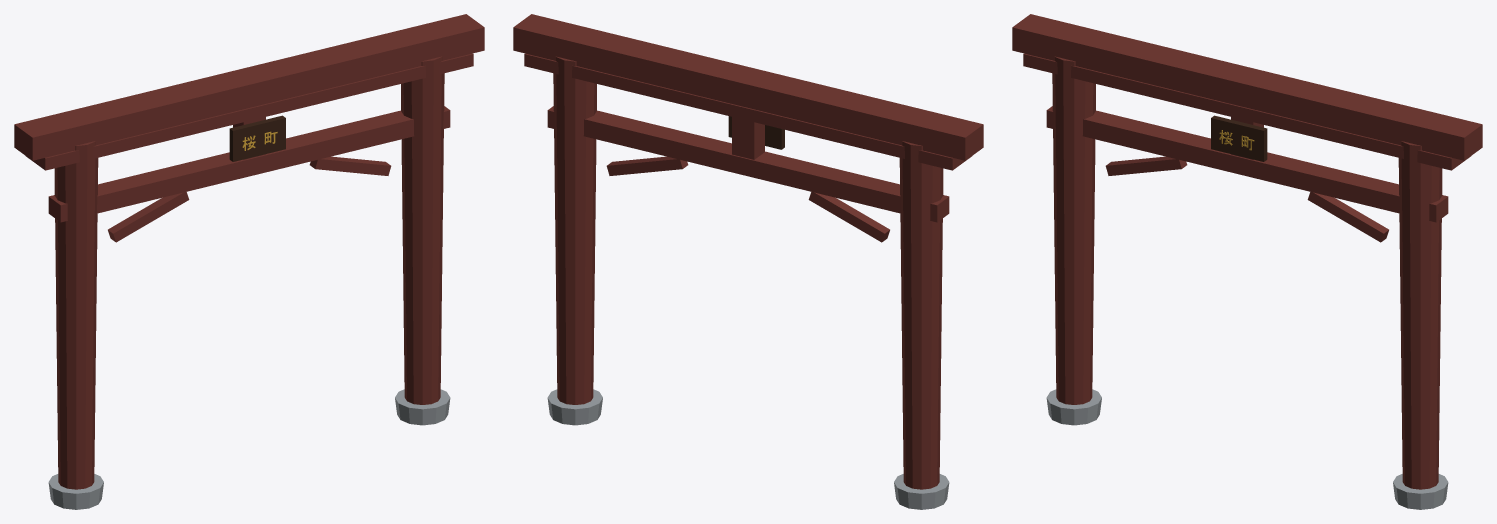
Rendered from lm_torii.glb.
3 renders of one model, left to right at view 1: azimuth 30°, elevation 25°; view 2: azimuth 150°, elevation 25°; view 3: azimuth 330°, elevation 25°, orthographic.
Parts seen in each view (by area): view 1: kasagi.001, pillar.004, pillar.005, nuki.001, shimaki.001, plaque.001, brace.002, base.054, base.052, brace.003; view 2: kasagi.001, pillar.004, pillar.005, nuki.001, shimaki.001, brace.002, base.054, base.052, gakuzuka.001, brace.003; view 3: kasagi.001, pillar.005, pillar.004, nuki.001, shimaki.001, plaque.001, brace.003, base.052, base.054, brace.002.
Boxes of the visible parts, box(x1,y1,x2,y2) form: kasagi.001: box(14, 14, 484, 160); pillar.004: box(54, 141, 98, 489); pillar.005: box(401, 56, 444, 404); nuki.001: box(48, 106, 450, 222); shimaki.001: box(26, 53, 473, 170); plaque.001: box(229, 115, 285, 161); brace.002: box(108, 192, 189, 242); base.054: box(395, 389, 450, 425); base.052: box(48, 474, 103, 509); brace.003: box(309, 156, 391, 175); kasagi.001: box(513, 14, 983, 160); pillar.004: box(899, 141, 943, 489); pillar.005: box(553, 56, 596, 404); nuki.001: box(547, 106, 949, 222); shimaki.001: box(524, 53, 971, 170); brace.002: box(808, 192, 889, 242); base.054: box(547, 389, 602, 425); base.052: box(894, 474, 949, 509); gakuzuka.001: box(732, 117, 764, 159); brace.003: box(606, 156, 688, 175); kasagi.001: box(1012, 14, 1482, 160); pillar.005: box(1398, 141, 1442, 489); pillar.004: box(1052, 56, 1095, 404); nuki.001: box(1046, 106, 1448, 222); shimaki.001: box(1023, 53, 1470, 170); plaque.001: box(1211, 115, 1267, 161); brace.003: box(1307, 192, 1388, 242); base.052: box(1046, 389, 1101, 425); base.054: box(1393, 474, 1448, 509); brace.002: box(1105, 156, 1187, 175).
Size of the model in its own units: 9.4 by 7.57 by 1.
